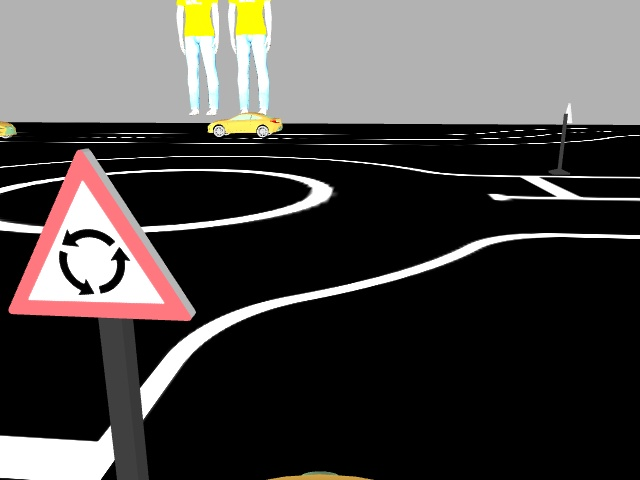Roundabout: (0, 147, 200, 322)
